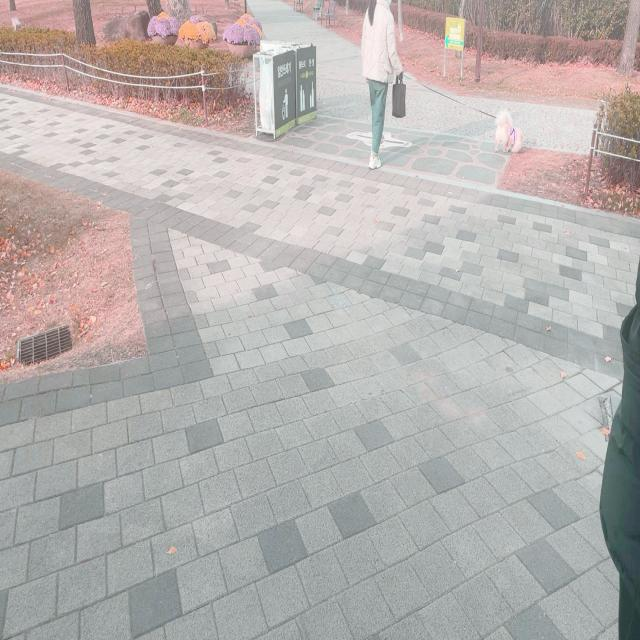Leashed_Dog: (377, 73, 522, 153)
